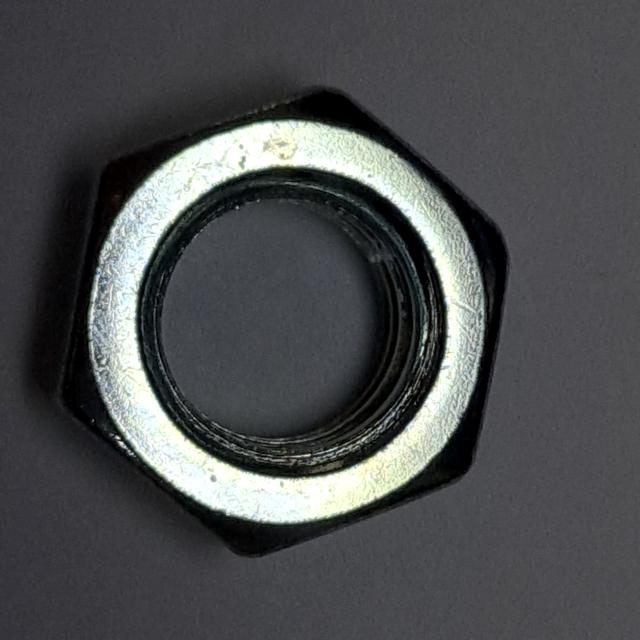Excellent: (34, 68, 525, 575)
